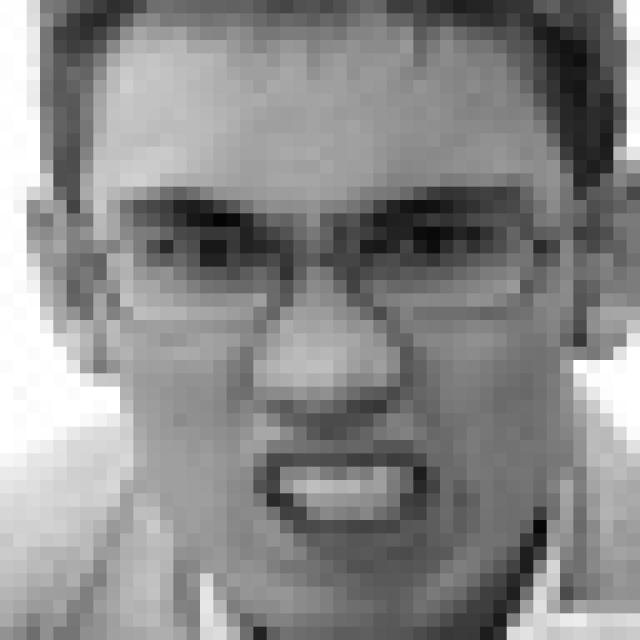angry: (121, 178, 548, 579)
